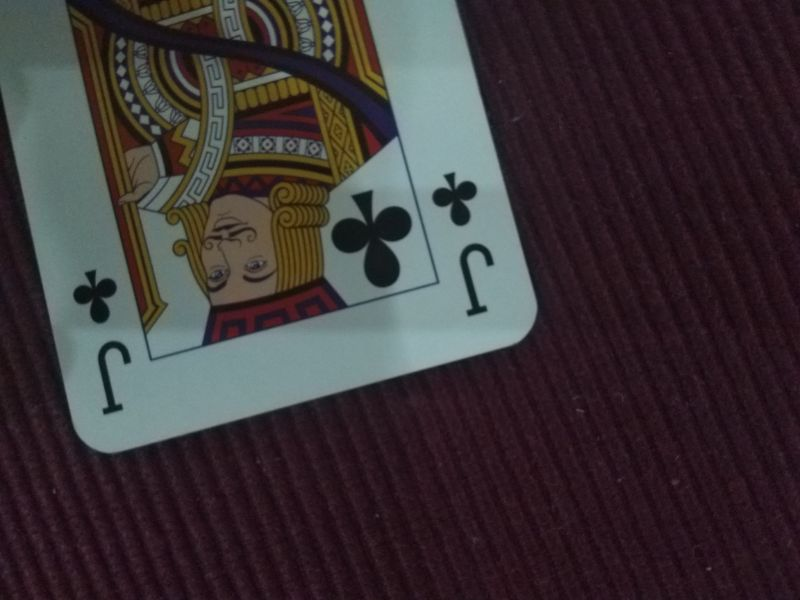Jc: (426, 169, 502, 320), (68, 266, 138, 419)
